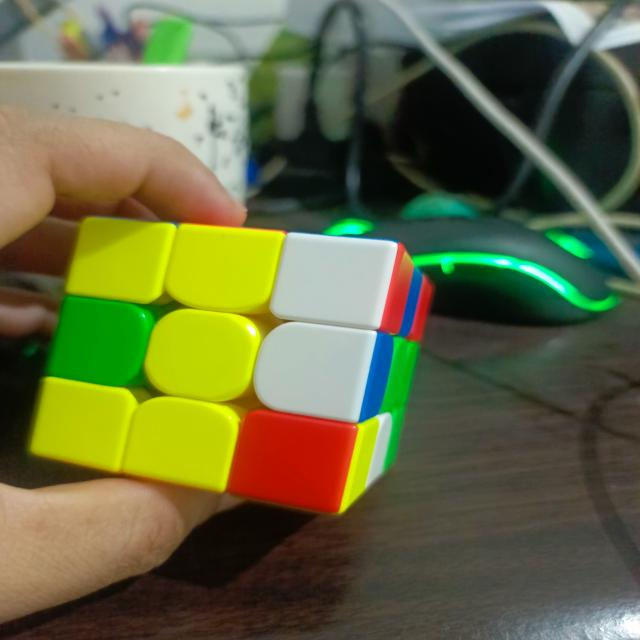rubik: (27, 214, 434, 516)
